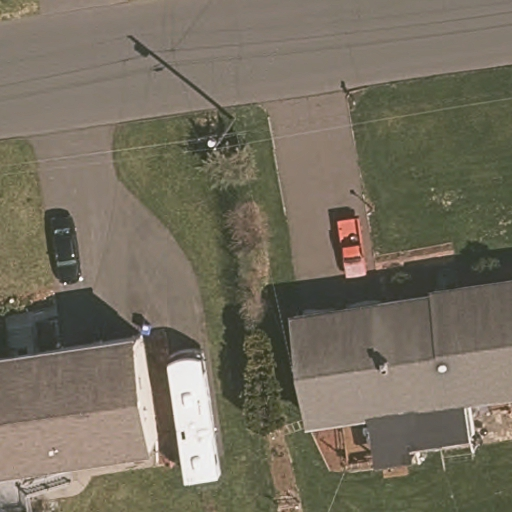DT: (206, 117, 239, 152)
